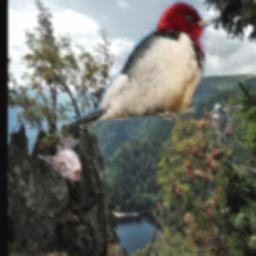Sparrow: (38, 137, 81, 181)
Woodpecker: (69, 2, 222, 126), (211, 103, 242, 146)
